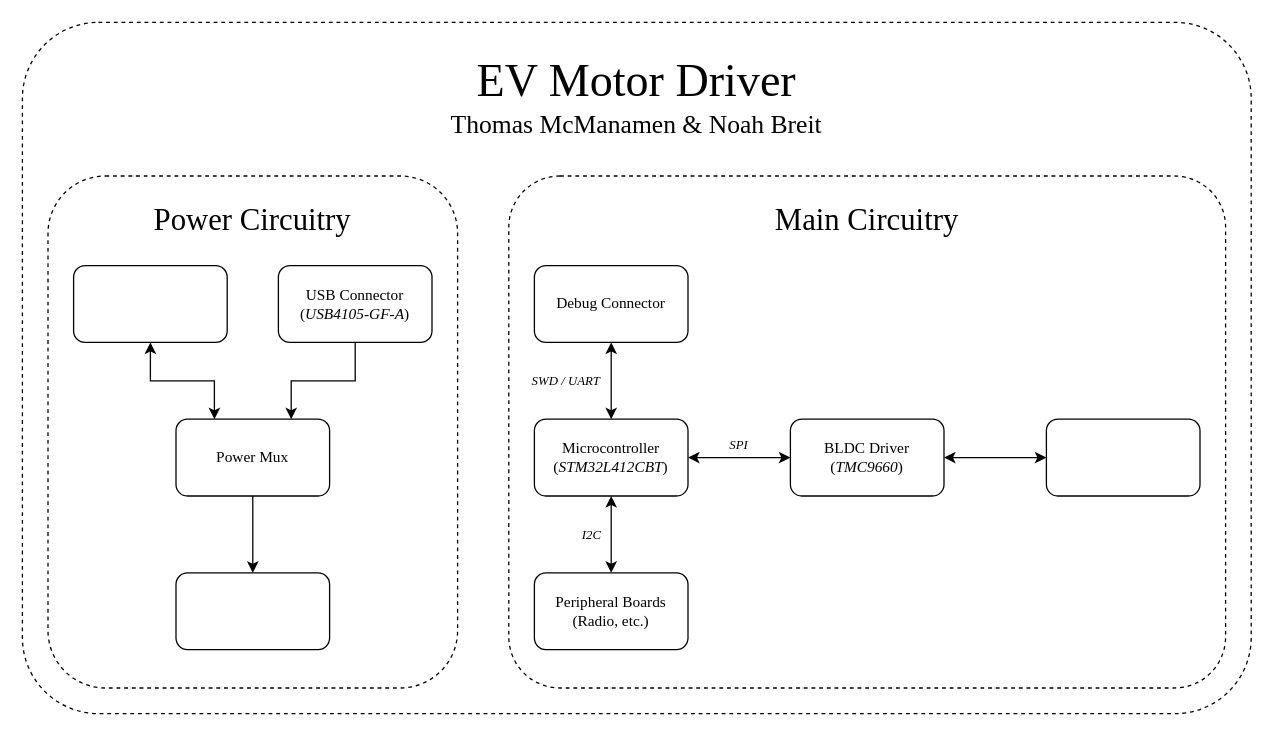
Image size: 1274x736. Some labels were removed from this diagram. The shapes that lost their labels are listed below. From the top down, each one's centre as x and y in pixels, then its label:
At (x=149, y=303): "Power Supply / Battery".
At (x=1122, y=457): "BLDC Motor ( QBL5704 )".
At (x=252, y=611): "3V3 LDO".
